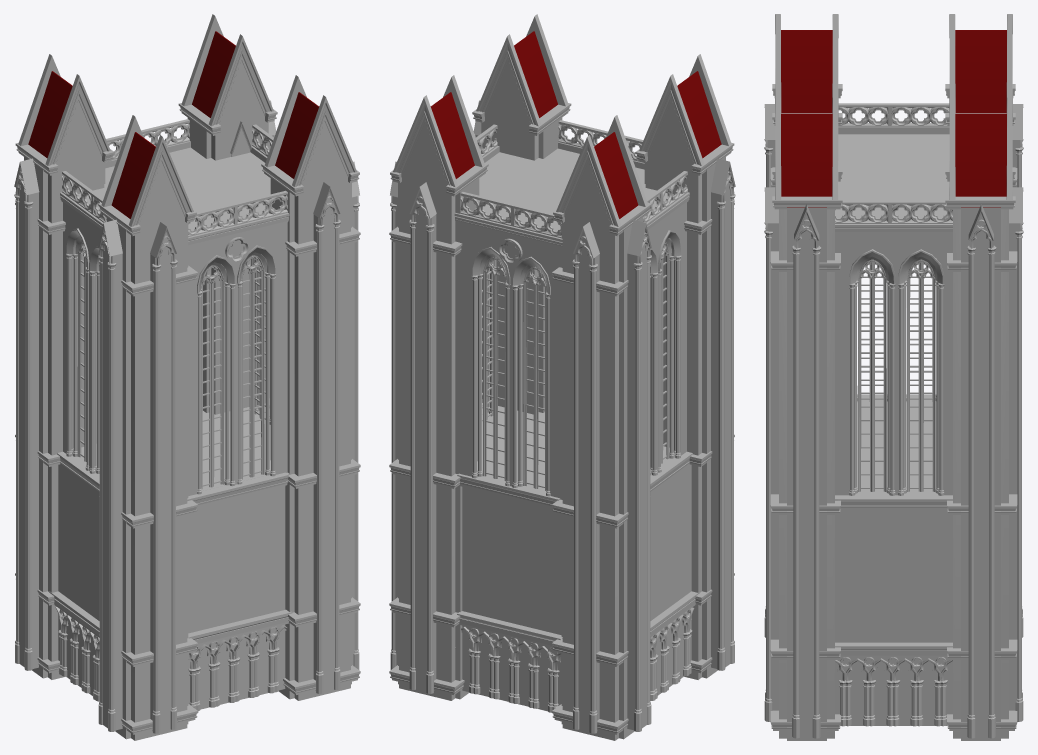
The model's file is tower_006.glb.
3 renders of one model, left to right at view 1: azimuth 30°, elevation 25°; view 2: azimuth 150°, elevation 25°; view 3: azimuth 270°, elevation 25°, orthographic. The views are drawn at different scales.
Visible parts, largest first — view 1: tower_006; view 2: tower_006; view 3: tower_006.
Boxes of the visible parts, left/top/right/bottom form: tower_006: left=14, top=14, right=360, bottom=740; tower_006: left=389, top=14, right=735, bottom=740; tower_006: left=764, top=14, right=1023, bottom=740.
Bounding box in the file's own units: 3.41 × 7.75 × 2.91.
